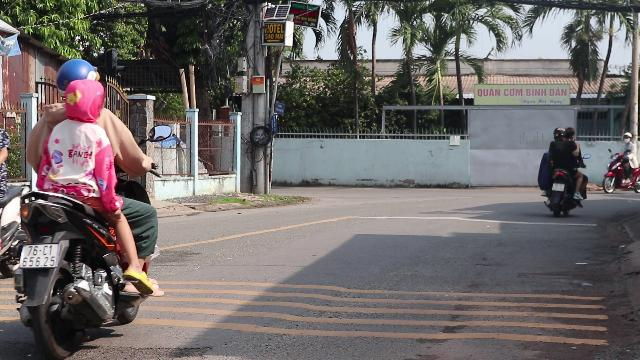helmet: (61, 78, 106, 122), (54, 58, 98, 90)
licenseplate: (20, 244, 58, 266)
motorcyclist: (0, 56, 164, 354)
